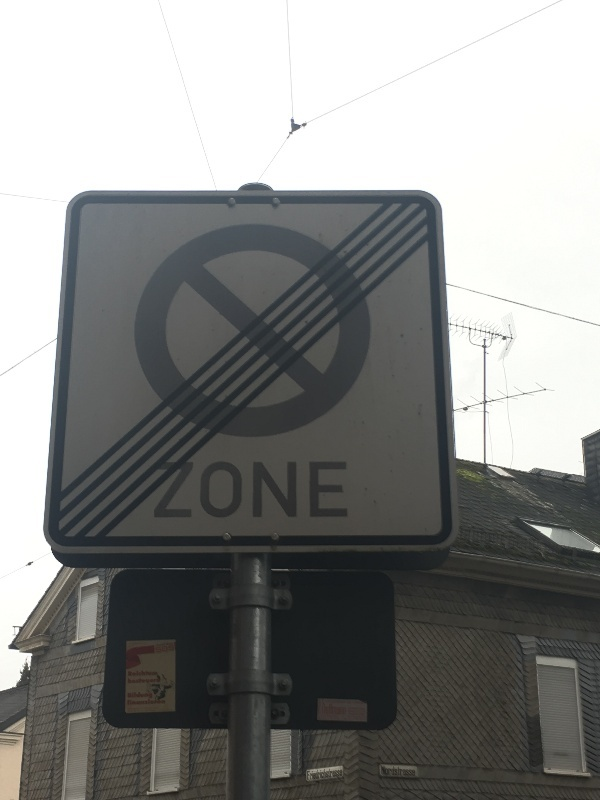text: (161, 459, 176, 517), (177, 459, 192, 517), (193, 459, 208, 517), (209, 459, 224, 517), (225, 459, 240, 517), (241, 459, 256, 517), (257, 459, 272, 517), (273, 459, 288, 517), (289, 459, 304, 517), (305, 459, 320, 517), (321, 459, 336, 517), (337, 459, 347, 517), (321, 768, 336, 781), (307, 768, 320, 781), (385, 766, 400, 776), (401, 766, 416, 776), (161, 644, 174, 654), (323, 705, 336, 715), (158, 459, 160, 517), (129, 671, 144, 677), (129, 678, 144, 684), (129, 693, 144, 699), (337, 705, 346, 715), (145, 678, 159, 684), (145, 671, 158, 677), (337, 768, 343, 781), (129, 700, 144, 705), (145, 700, 160, 705), (145, 693, 152, 699), (156, 644, 160, 654), (381, 766, 384, 776), (161, 700, 166, 705)
